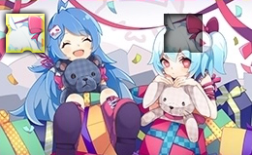gap: (163, 13, 202, 52)
